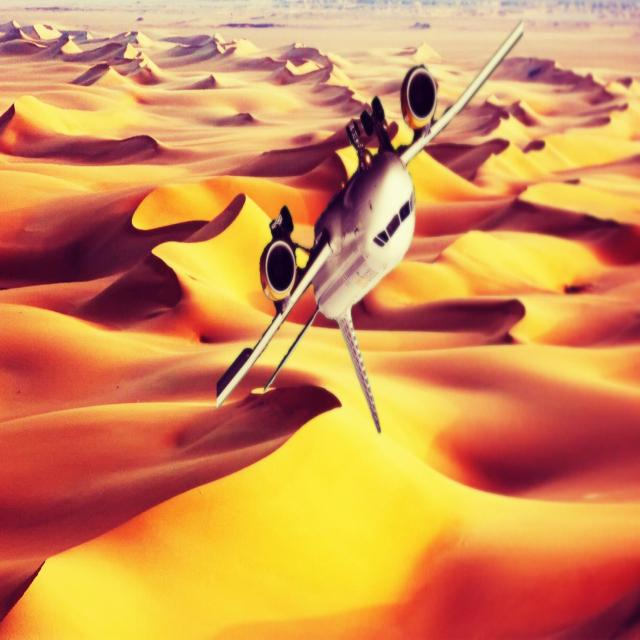airplane: (216, 18, 525, 434)
